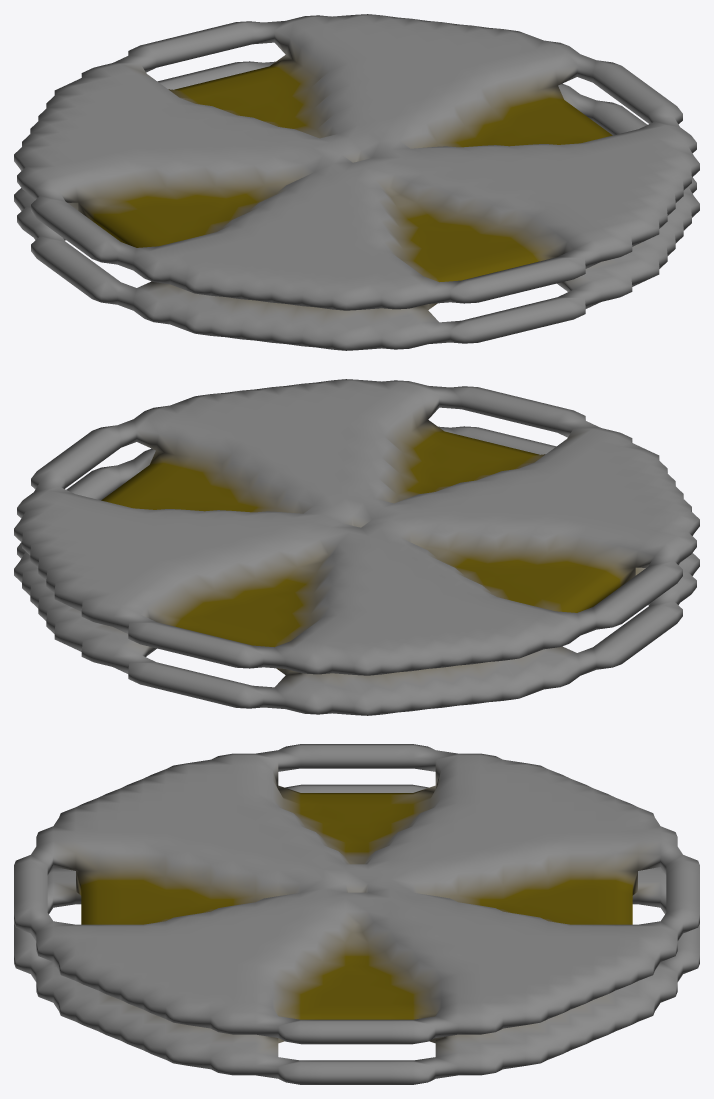
3 views of the same model, one above another, from view 1: azimuth 30°, elevation 25°; view 2: azimuth 150°, elevation 25°; view 3: azimuth 270°, elevation 25° (orthographic).
Size of the model in its own units: 1.52 by 0.15 by 1.52.
